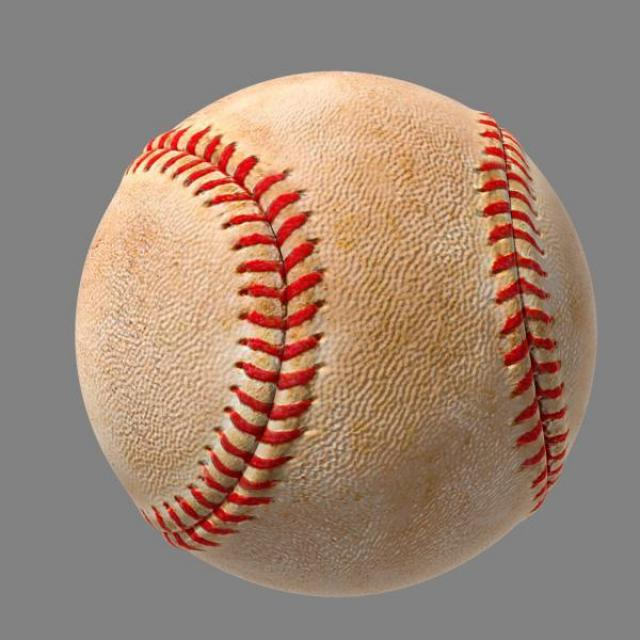baseball: (75, 67, 598, 596)
